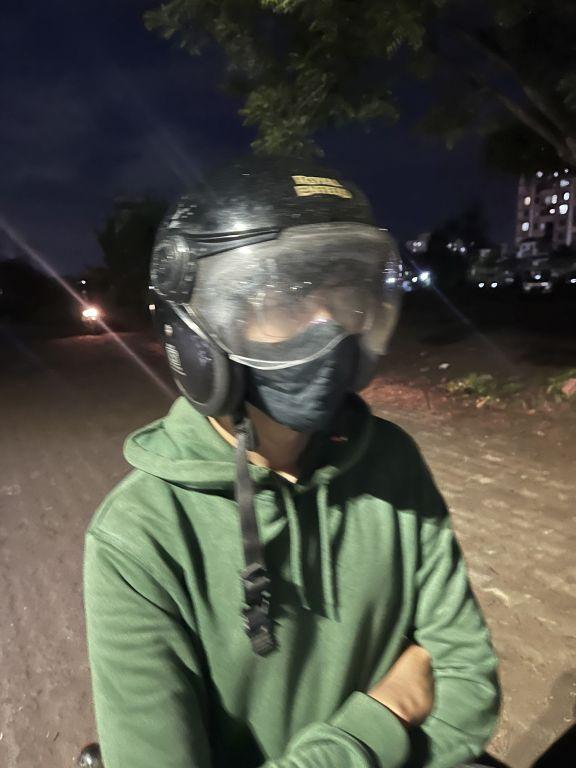helmet: (137, 147, 426, 450)
